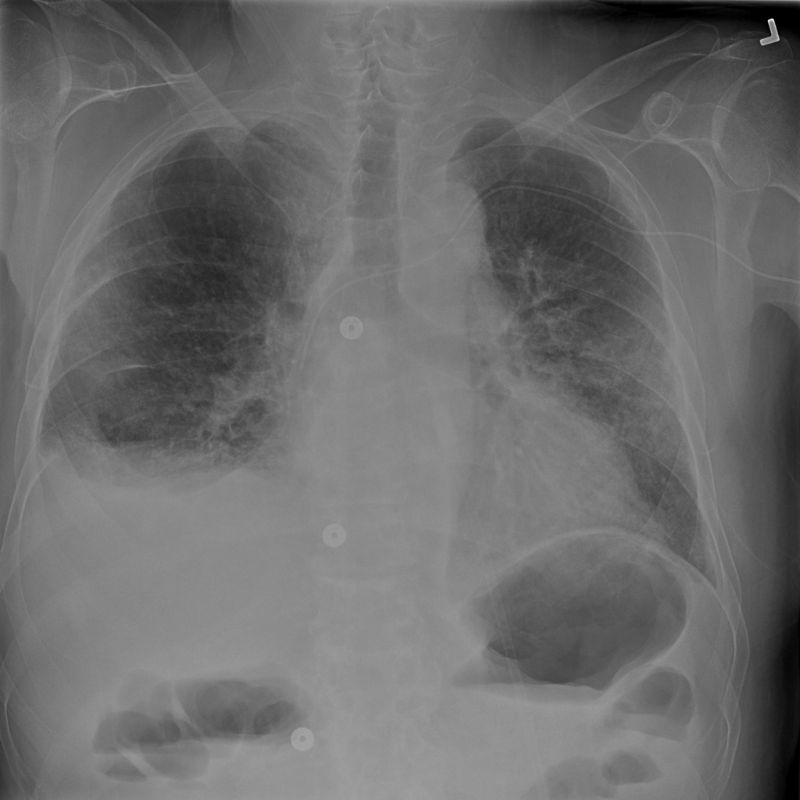PLEURAL EFFUSION: (2, 439, 227, 634)
